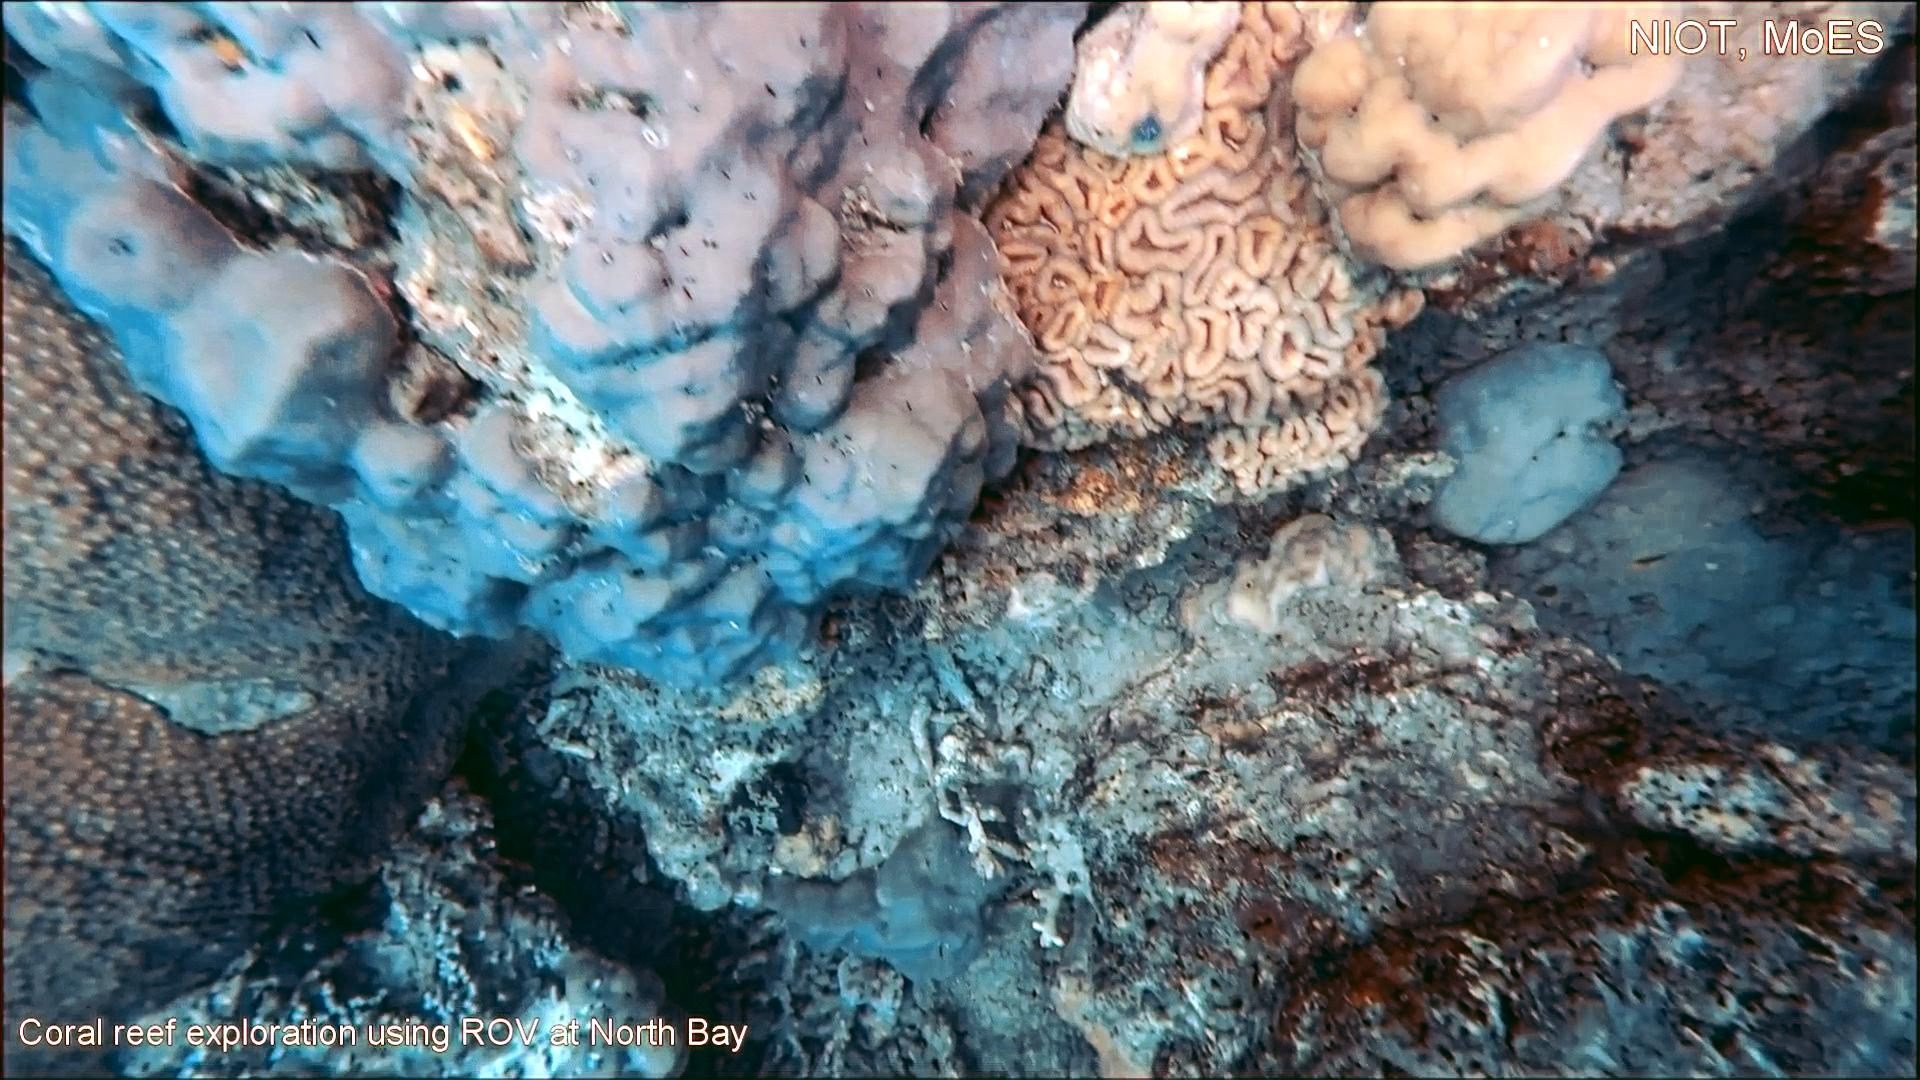Lobophyllia: (971, 0, 1433, 512)
